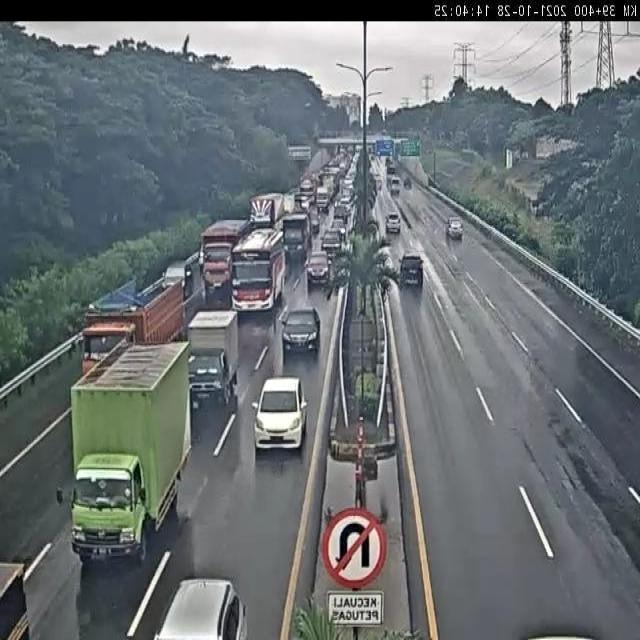Bus: (230, 232, 286, 315)
Car: (155, 566, 252, 640), (253, 369, 312, 461), (276, 306, 320, 354), (161, 259, 197, 292), (399, 252, 426, 292), (303, 252, 334, 286), (316, 226, 346, 255), (380, 210, 405, 240), (443, 214, 466, 245)
Truck: (64, 346, 192, 556), (80, 280, 184, 376), (183, 307, 242, 404), (200, 220, 240, 292), (245, 188, 284, 236), (280, 214, 314, 262)
